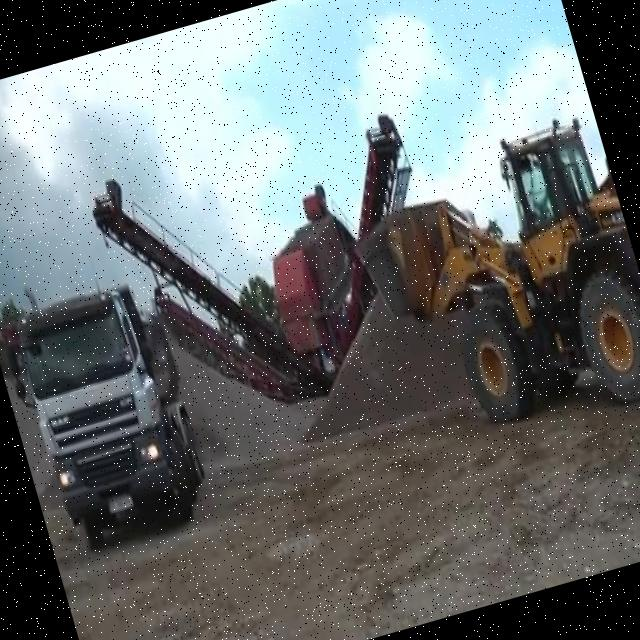Dump Truck: (0, 247, 221, 561)
Loader: (332, 105, 640, 468)
